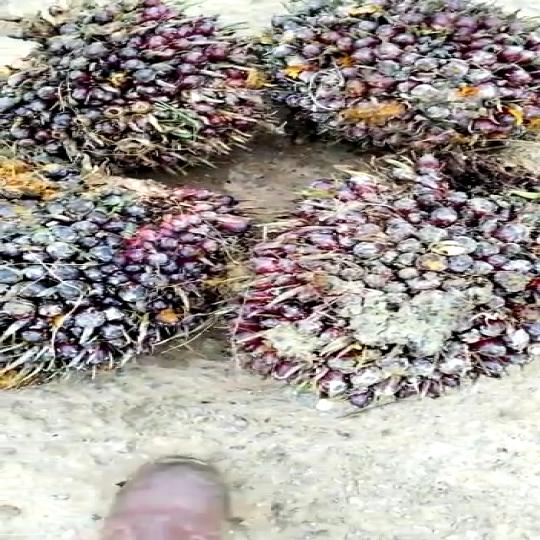kurang masak: (252, 169, 540, 411), (0, 166, 239, 408), (262, 2, 540, 175), (0, 0, 282, 163)
